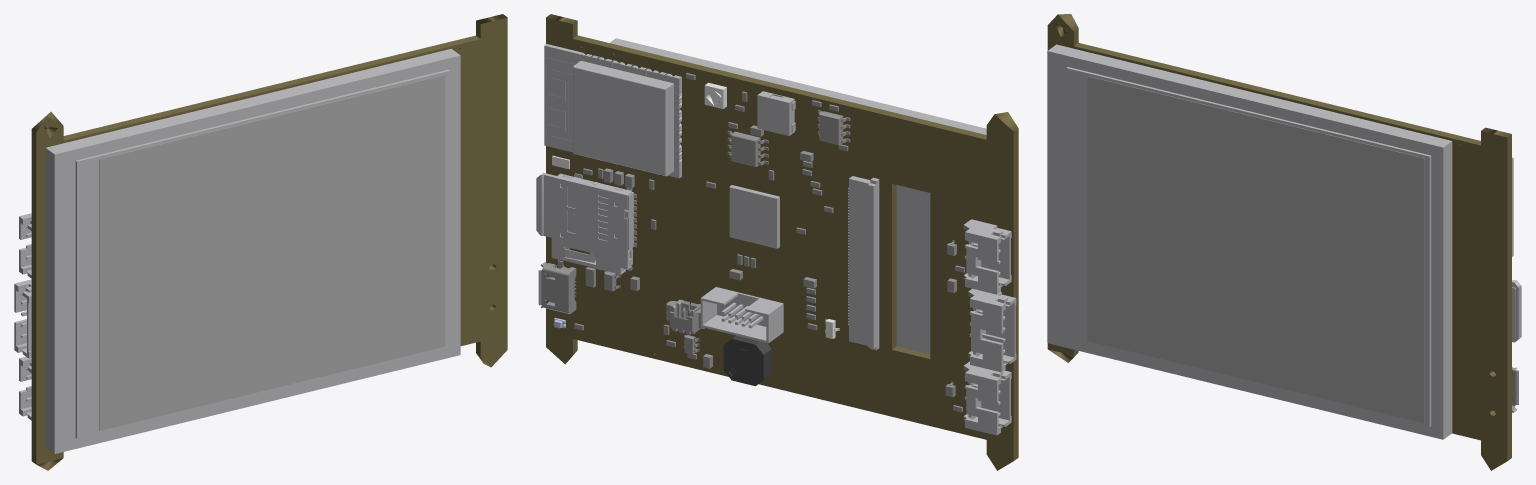
Rendered from ada-4116.glb.
3 views of the same model, side by side, from view 1: azimuth 30°, elevation 25°; view 2: azimuth 150°, elevation 25°; view 3: azimuth 330°, elevation 25° (orthographic). The views are drawn at different scales.
Visible parts, largest first — view 1: 0.4166666666666667_0.4166666666666667_0.4166666666666667_0, 0.5833333333333334_0.5833333333333334_0.5833333333333334_0.8, 0.16666666666666666_0.16666666666666666_0.08333333333333333_; view 2: 0.16666666666666666_0.16666666666666666_0.08333333333333333_, 0.5833333333333334_0.5833333333333334_0.5833333333333334_0.8, 0.3333333333333333_0.3333333333333333_0.3333333333333333_0, 0.08333333333333333_0.08333333333333333_0.08333333333333333_, 0.9166666666666666_0.9166666666666666_0.9166666666666666_0.8; view 3: 0.4166666666666667_0.4166666666666667_0.4166666666666667_0, 0.5833333333333334_0.5833333333333334_0.5833333333333334_0.8, 0.16666666666666666_0.16666666666666666_0.08333333333333333_.
Boxes of the visible parts, bbox=[...] form: 0.4166666666666667_0.4166666666666667_0.4166666666666667_0: bbox=[99, 75, 445, 430]; 0.5833333333333334_0.5833333333333334_0.5833333333333334_0.8: bbox=[14, 48, 460, 453]; 0.16666666666666666_0.16666666666666666_0.08333333333333333_: bbox=[31, 14, 507, 470]; 0.16666666666666666_0.16666666666666666_0.08333333333333333_: bbox=[546, 14, 1018, 470]; 0.5833333333333334_0.5833333333333334_0.5833333333333334_0.8: bbox=[536, 38, 1016, 435]; 0.3333333333333333_0.3333333333333333_0.3333333333333333_0: bbox=[538, 73, 964, 412]; 0.08333333333333333_0.08333333333333333_0.08333333333333333_: bbox=[723, 335, 771, 386]; 0.9166666666666666_0.9166666666666666_0.9166666666666666_0.8: bbox=[552, 82, 839, 338]; 0.4166666666666667_0.4166666666666667_0.4166666666666667_0: bbox=[1087, 76, 1424, 423]; 0.5833333333333334_0.5833333333333334_0.5833333333333334_0.8: bbox=[1047, 44, 1521, 439]; 0.16666666666666666_0.16666666666666666_0.08333333333333333_: bbox=[1047, 14, 1511, 470].
Size of the model in its own units: 8.95 by 6.44 by 1.02.
